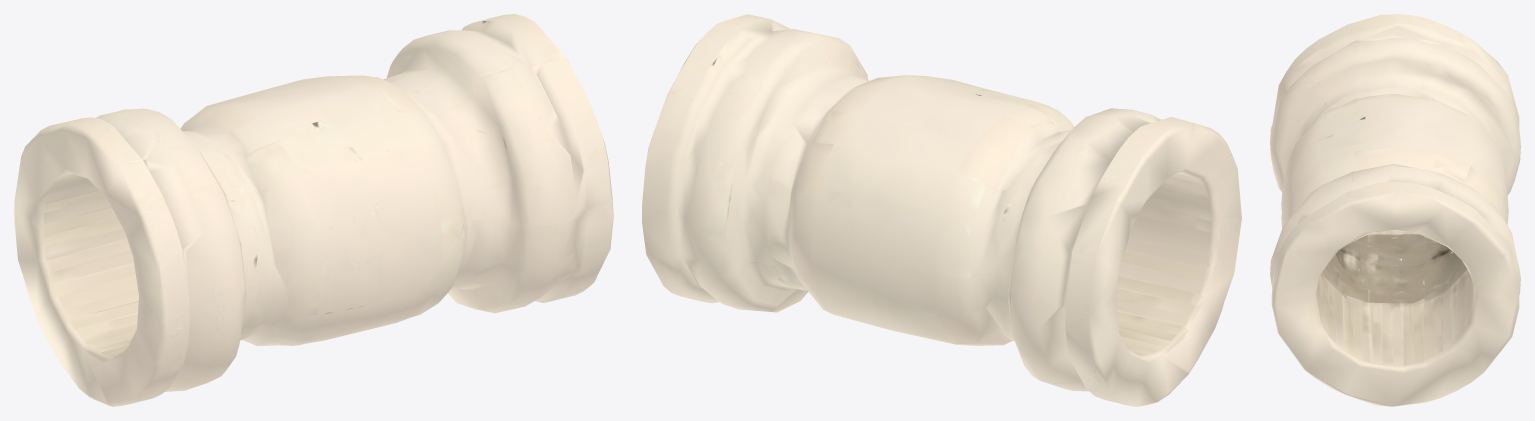
Rendered from ruined_column.glb.
3 renders of one model, left to right at view 1: azimuth 30°, elevation 25°; view 2: azimuth 150°, elevation 25°; view 3: azimuth 270°, elevation 25°, orthographic. The views are drawn at different scales.
Parts seen in each view (by area): view 1: 0; view 2: 0; view 3: 0.
Part boxes in pixels (x1,y1,x2,y2): 0: (14,14,613,406); 0: (642,14,1241,406); 0: (1270,14,1520,406).
Bounding box in the file's own units: 1.91 × 1.07 × 1.12.
1 material, 1 textured.
